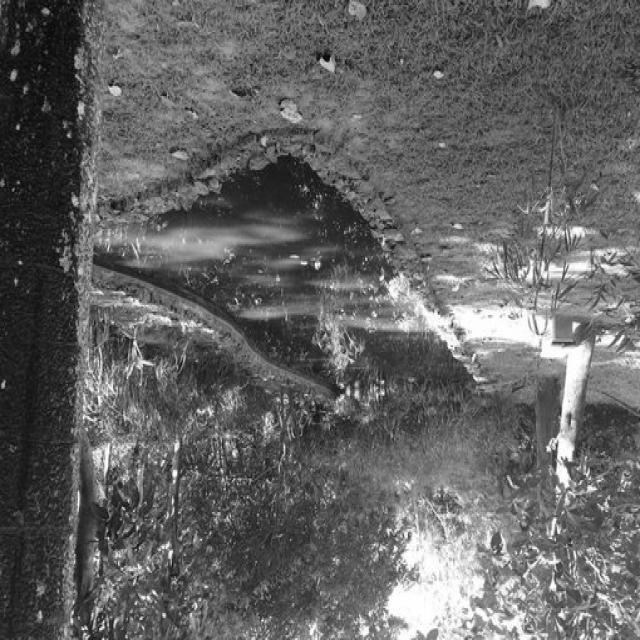Breeding Place: (95, 145, 497, 408)
